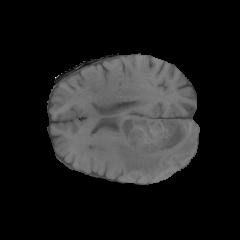glioma: (117, 118, 195, 176)
